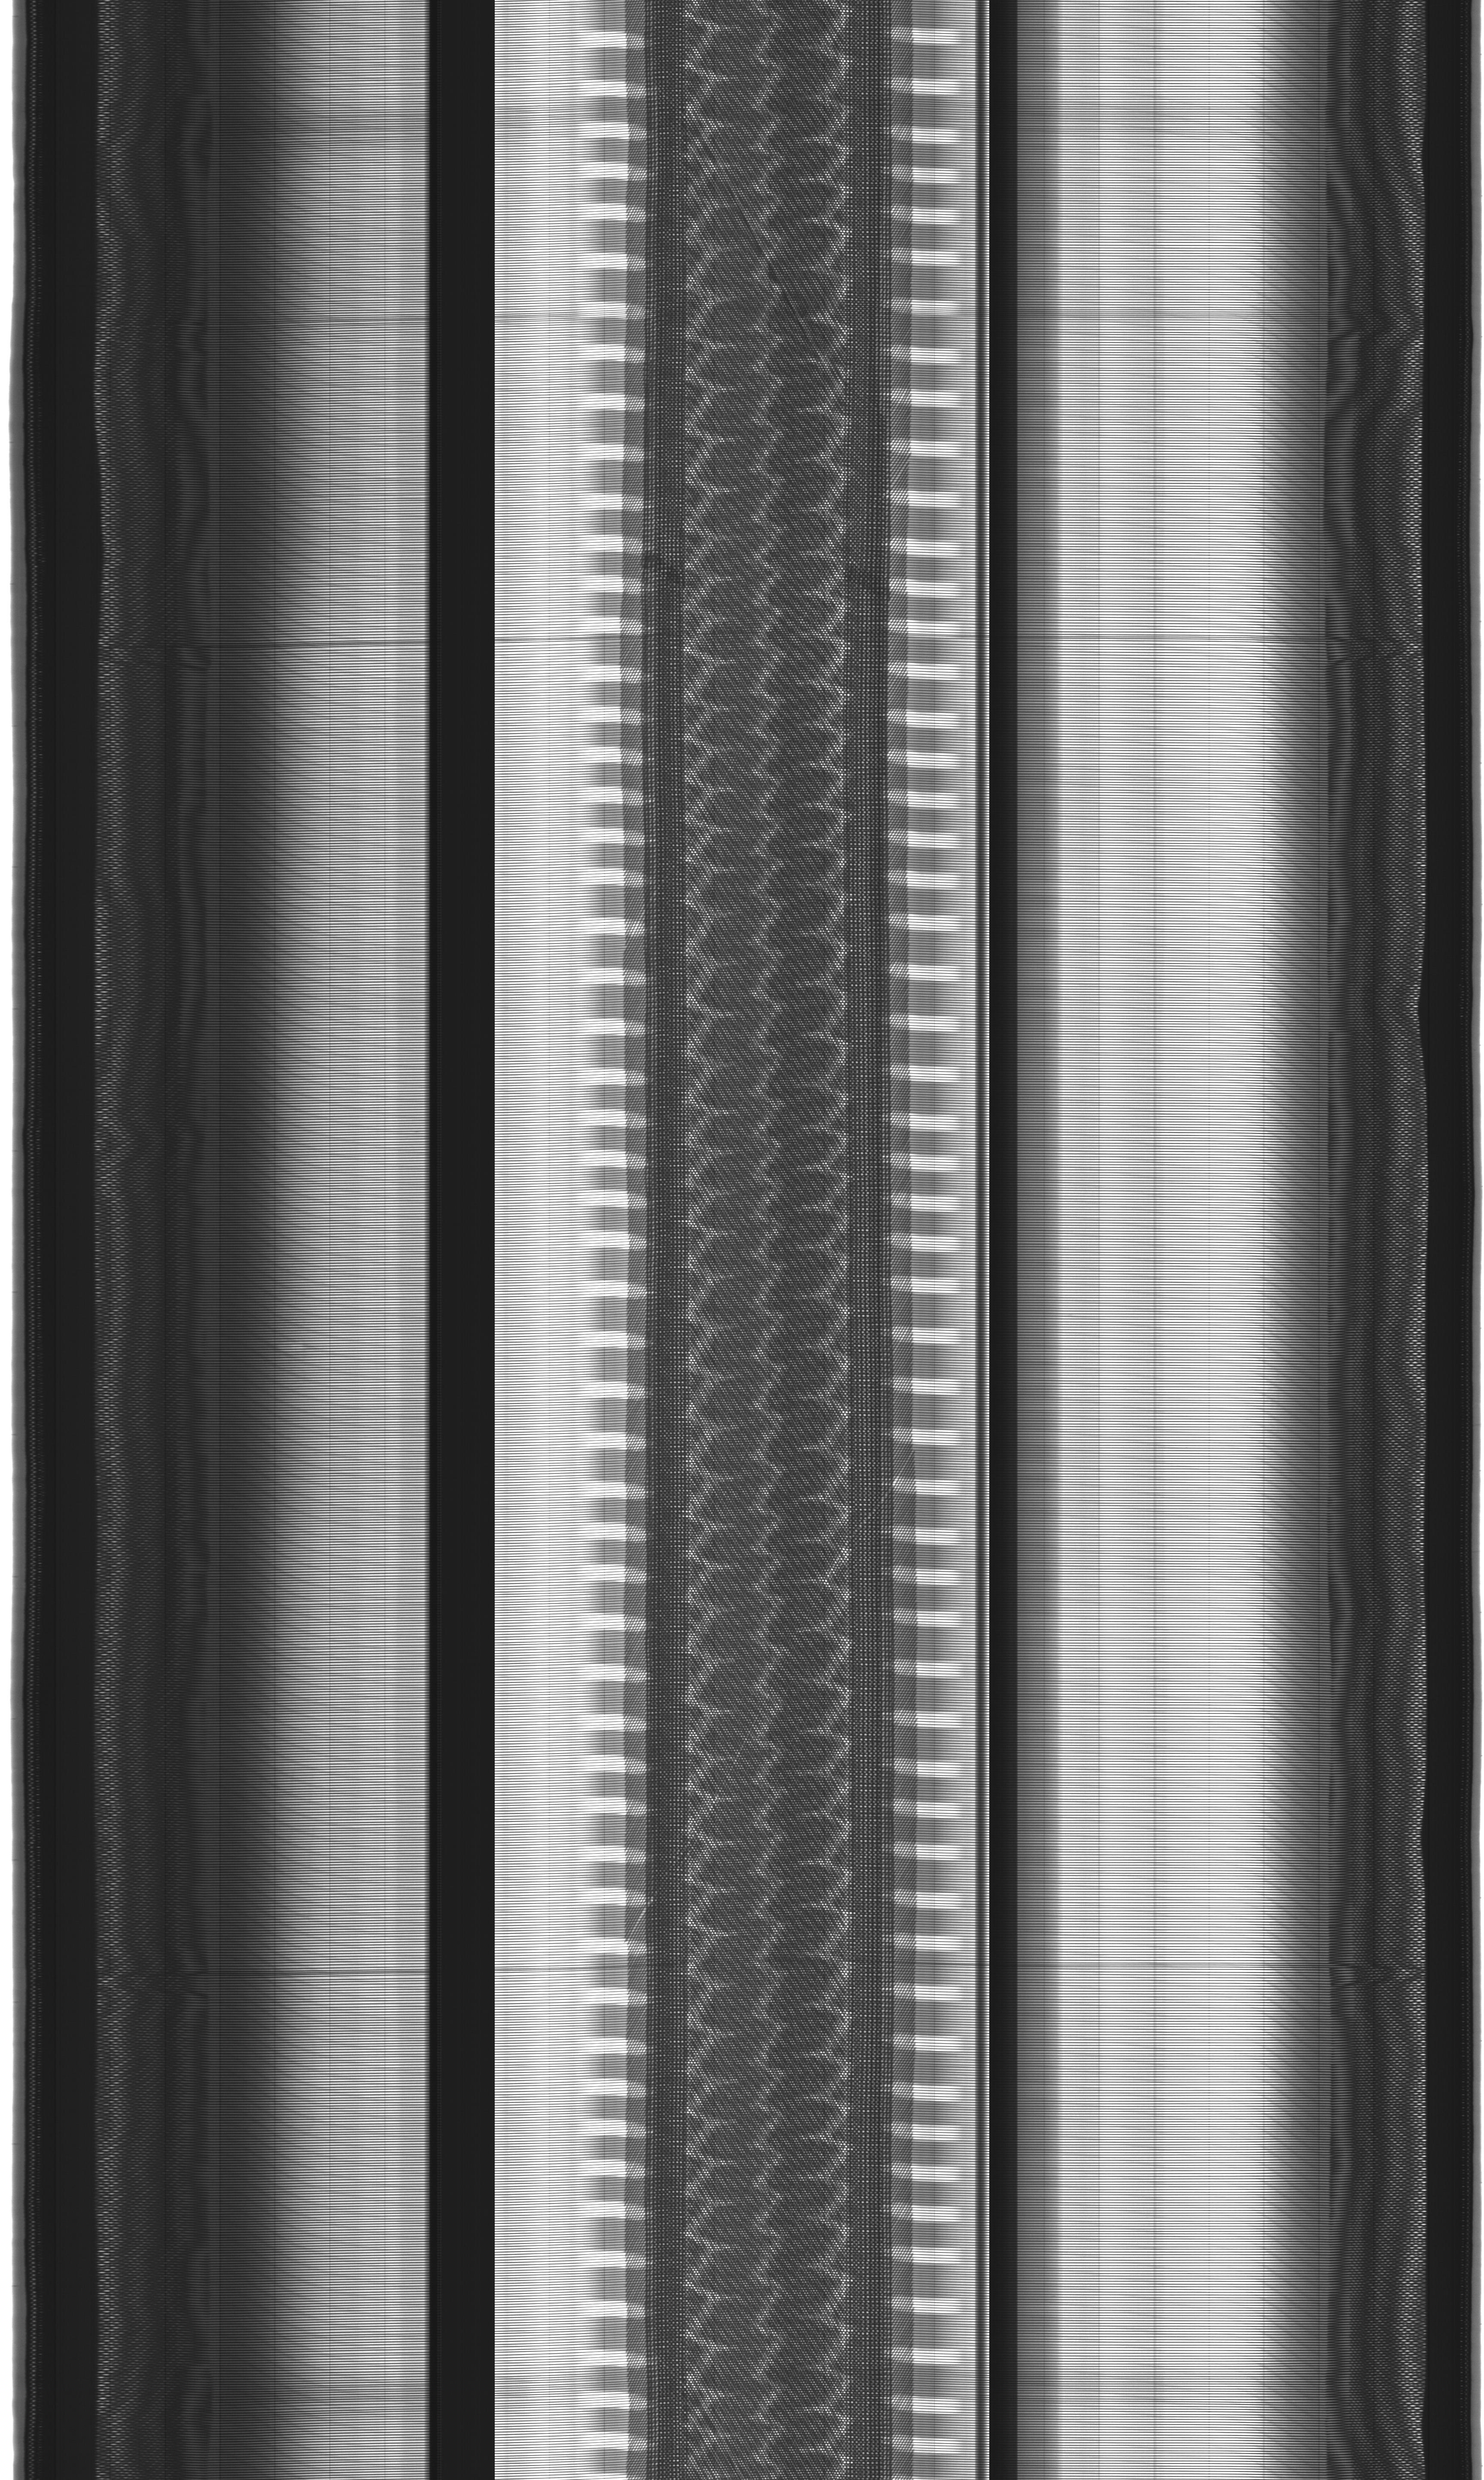72B: (267, 1327, 320, 1372)
